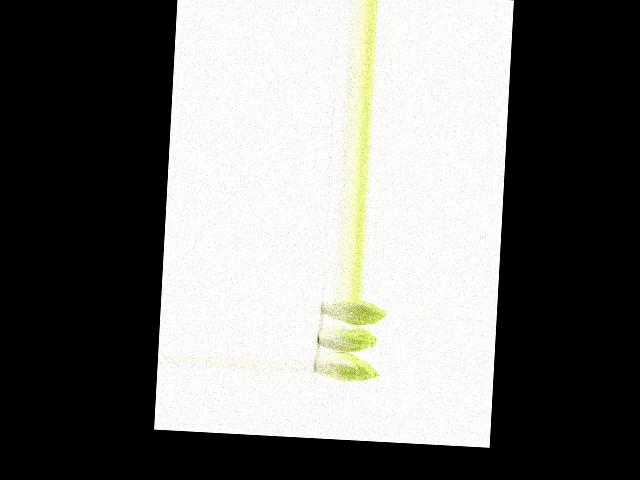lettuce: (311, 351, 380, 383)
